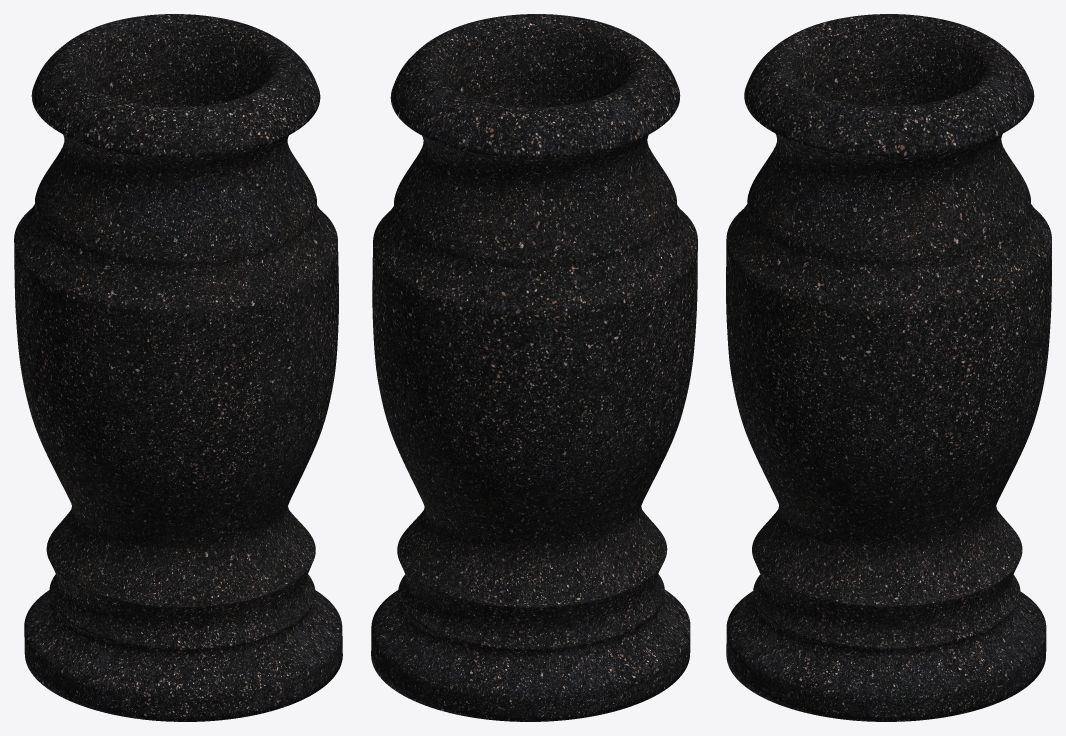
The model's file is vaza1.glb.
The picture shows the model from 3 angles, left to right: view 1: azimuth 30°, elevation 25°; view 2: azimuth 150°, elevation 25°; view 3: azimuth 270°, elevation 25°; orthographic projection.
Visible parts, largest first — view 1: vaza.001; view 2: vaza.001; view 3: vaza.001.
Boxes of the visible parts, x1=… form: vaza.001: x1=14, y1=14, x2=342, y2=721; vaza.001: x1=371, y1=14, x2=697, y2=721; vaza.001: x1=726, y1=14, x2=1051, y2=721.
Bounding box in the file's own units: 0.1491 × 0.2981 × 0.149.
1 material, 1 textured.
